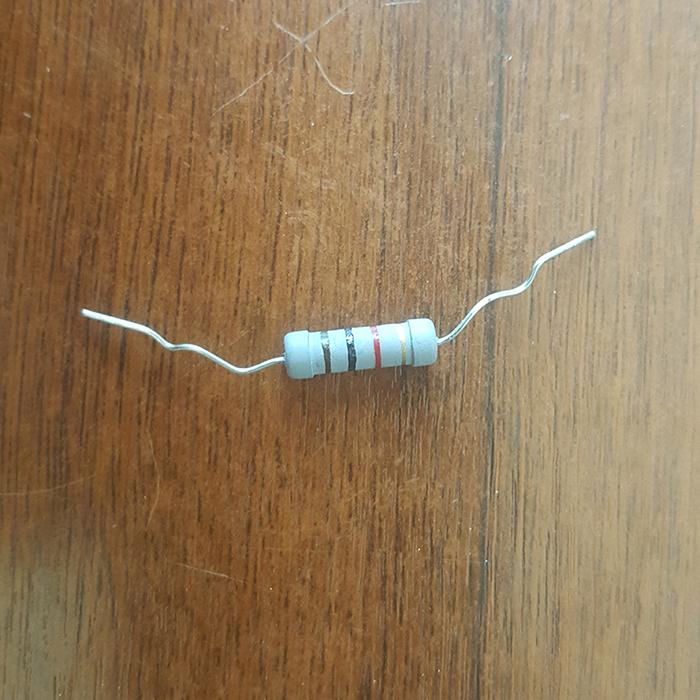resistor: (280, 316, 438, 379)
